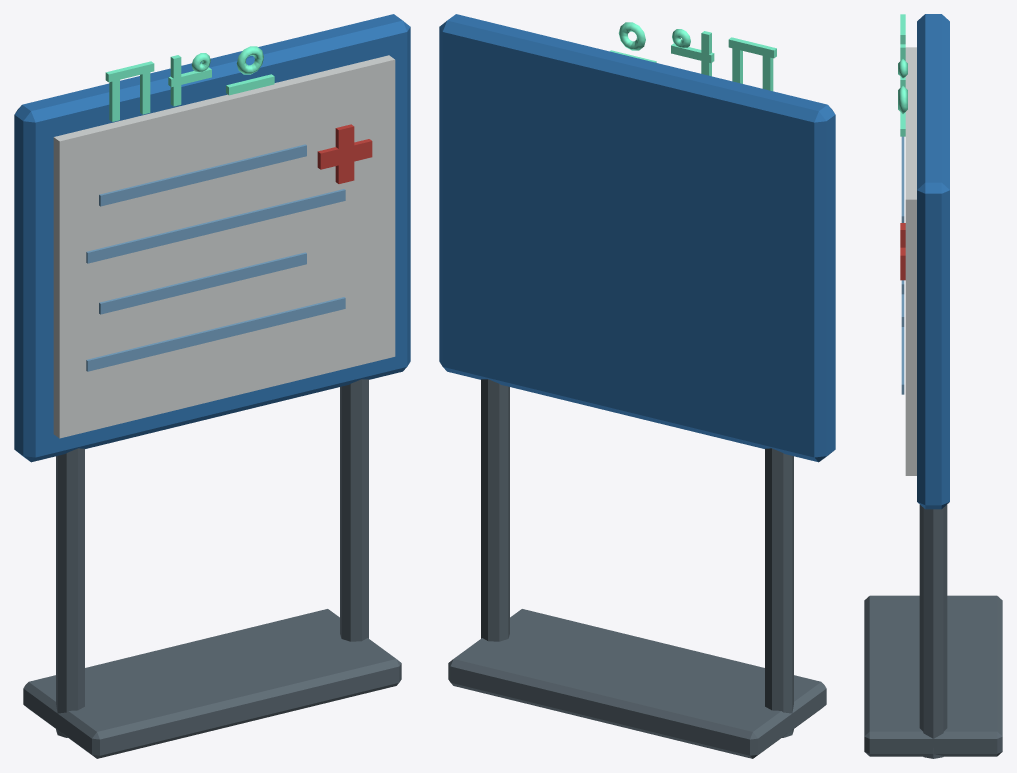
The model's file is lore_stone.fbx.
The picture shows the model from 3 angles, left to right: view 1: azimuth 30°, elevation 25°; view 2: azimuth 150°, elevation 25°; view 3: azimuth 270°, elevation 25°; orthographic projection. The views are drawn at different scales.
Parts seen in each view (by area): view 1: lore_stone; view 2: lore_stone; view 3: lore_stone.
Boxes of the visible parts, <box> form: lore_stone: <box>14,14,410,758</box>; lore_stone: <box>439,14,835,758</box>; lore_stone: <box>864,14,1002,758</box>.
Bounding box in the file's own units: 1.5 × 2.46 × 0.5.
